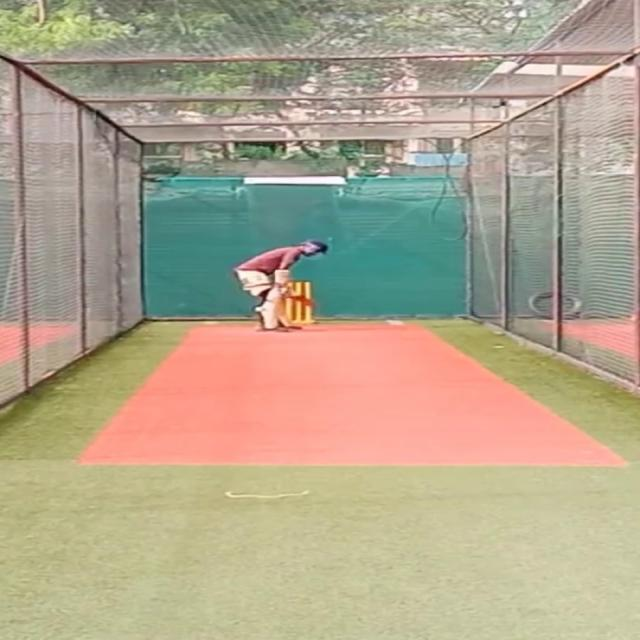stump: (292, 280, 316, 325)
